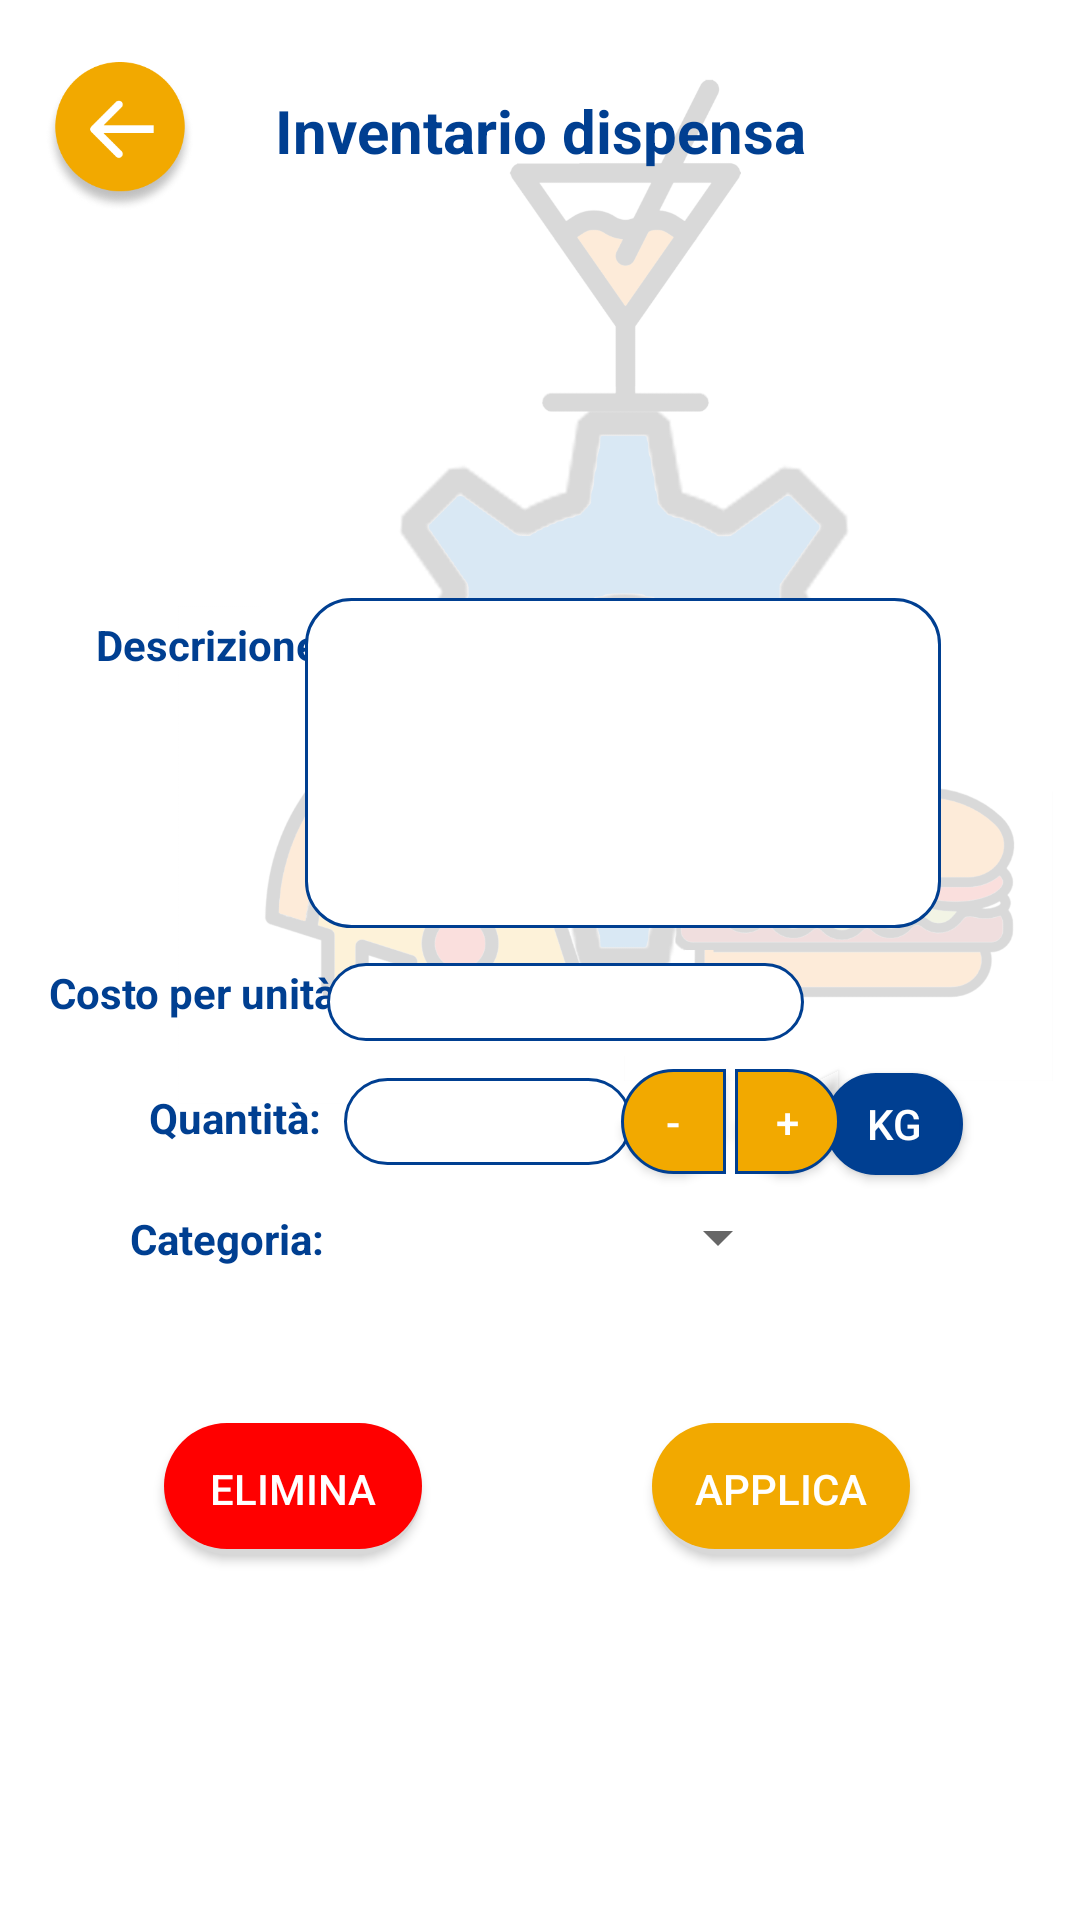

Locate icon controls on the screen. Image size 1080 × 1920, boxes as (x1, y1, x2, y2).
back: (54, 62, 186, 203)
